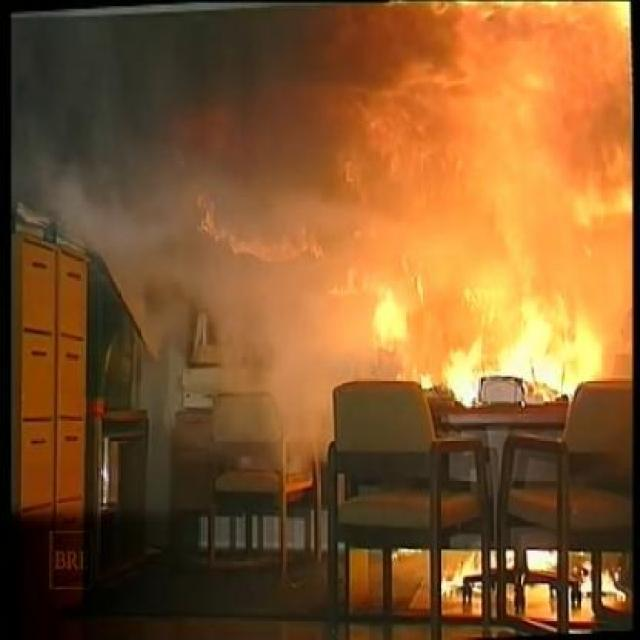fire: (335, 24, 640, 376)
smoke: (22, 46, 176, 245), (148, 279, 342, 416)
